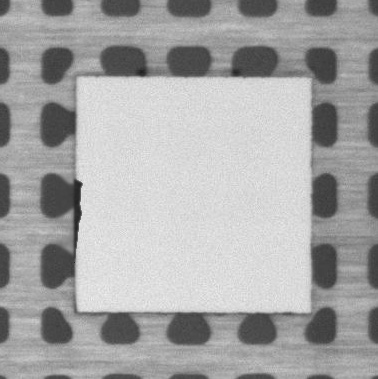DIE_BROKEN: (71, 173, 85, 259)
